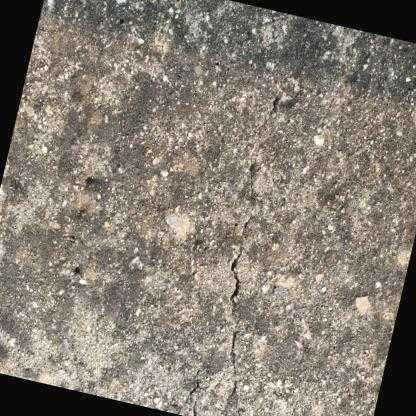crack: (228, 164, 253, 381)
